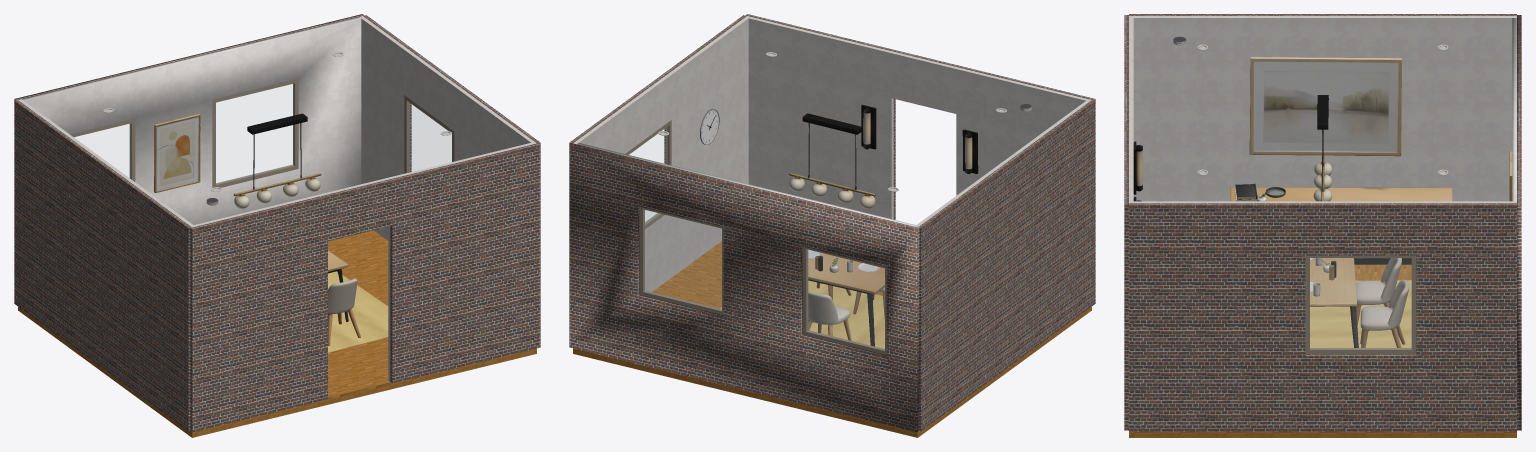
File: scene_web.glb
3 views of the same model, side by side, from view 1: azimuth 30°, elevation 25°; view 2: azimuth 150°, elevation 25°; view 3: azimuth 270°, elevation 25° (orthographic). The views are drawn at different scales.
Parts seen in each view (by area): view 1: geometry_0.003, geometry_0.007, geometry_0, geometry_0.004, Mesh_0, glass.001, geometry_0.015, Mesh_0.001, glass.002, geometry_0.019, frame.001, glass (+7 smaller); view 2: geometry_0.001, geometry_0.007, geometry_0.002, geometry_0.004, glass.001, glass, Mesh_0, Mesh_0.001, geometry_0.008, geometry_0.019, frame, frame.001 (+10 smaller); view 3: geometry_0.005, geometry_0.006, geometry_0.014, glass.002, Mesh_0, Mesh_0.001, geometry_0.013, geometry_0.008, frame.002, geometry_0.001, geometry_0.003, geometry_0.010 (+7 smaller).
Boxes of the visible parts, x1=… form: geometry_0.003: x1=190, y1=143, x2=540, y2=432; geometry_0.007: x1=14, y1=100, x2=191, y2=431; geometry_0: x1=22, y1=17, x2=361, y2=224; geometry_0.004: x1=359, y1=16, x2=536, y2=240; Mesh_0: x1=18, y1=230, x2=536, y2=437; glass.001: x1=216, y1=84, x2=293, y2=183; geometry_0.015: x1=154, y1=114, x2=200, y2=192; Mesh_0.001: x1=328, y1=271, x2=388, y2=352; glass.002: x1=408, y1=102, x2=451, y2=171; geometry_0.019: x1=233, y1=113, x2=321, y2=208; frame.001: x1=212, y1=78, x2=298, y2=187; glass: x1=74, y1=124, x2=130, y2=178; geometry_0.001: x1=569, y1=143, x2=919, y2=432; geometry_0.007: x1=918, y1=100, x2=1095, y2=431; geometry_0.002: x1=748, y1=17, x2=1087, y2=219; geometry_0.004: x1=573, y1=16, x2=750, y2=291; glass.001: x1=644, y1=210, x2=721, y2=309; glass: x1=807, y1=250, x2=884, y2=349; Mesh_0: x1=573, y1=241, x2=1091, y2=437; Mesh_0.001: x1=720, y1=280, x2=884, y2=348; geometry_0.008: x1=808, y1=253, x2=884, y2=346; geometry_0.019: x1=789, y1=113, x2=875, y2=208; frame: x1=802, y1=246, x2=886, y2=354; frame.001: x1=639, y1=207, x2=723, y2=315; geometry_0.005: x1=1129, y1=203, x2=1516, y2=431; geometry_0.006: x1=1129, y1=16, x2=1516, y2=201; geometry_0.014: x1=1249, y1=57, x2=1401, y2=156; glass.002: x1=1310, y1=258, x2=1411, y2=348; Mesh_0: x1=1129, y1=264, x2=1516, y2=437; Mesh_0.001: x1=1310, y1=280, x2=1411, y2=347; geometry_0.013: x1=1230, y1=187, x2=1452, y2=264; geometry_0.008: x1=1310, y1=258, x2=1358, y2=347; frame.002: x1=1305, y1=255, x2=1416, y2=354; geometry_0.001: x1=1517, y1=15, x2=1521, y2=430; geometry_0.003: x1=1124, y1=15, x2=1128, y2=430; geometry_0.010: x1=1360, y1=279, x2=1409, y2=347.
Size of the model in its own units: 4.9 by 2.8 by 4.3.
Materials: 25 (23 with a texture image).
